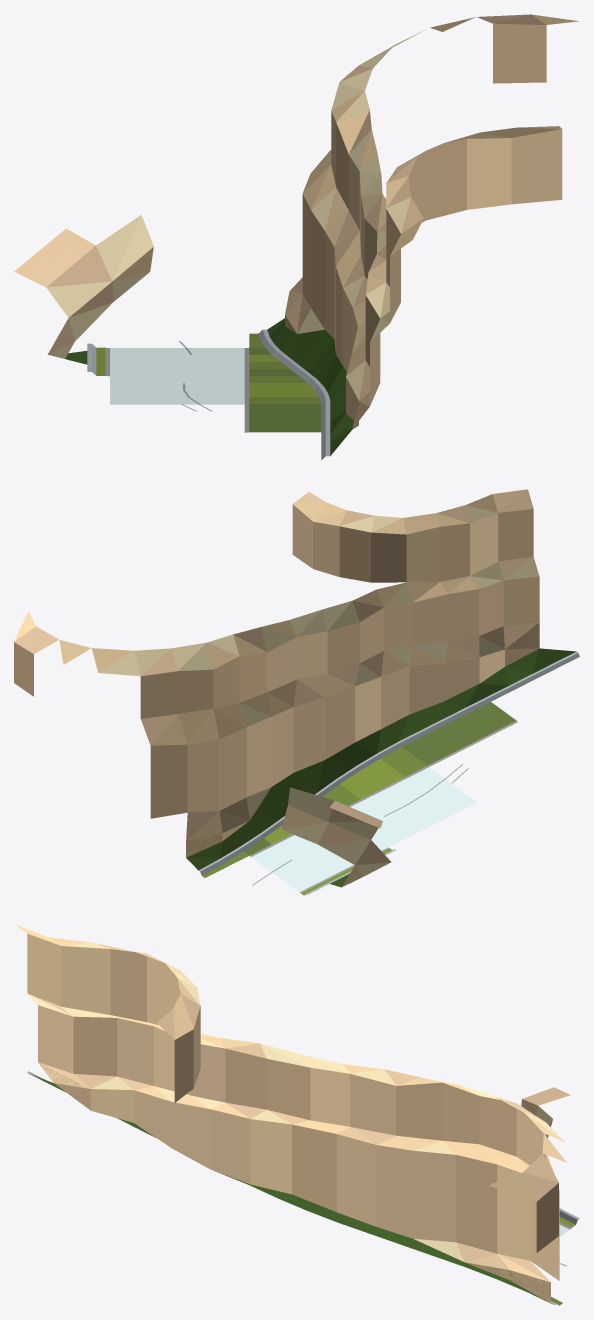
The picture shows the model from 3 angles, top to bottom: view 1: azimuth 30°, elevation 25°; view 2: azimuth 150°, elevation 25°; view 3: azimuth 270°, elevation 25°; orthographic projection. The views are drawn at different scales.
Parts seen in each view (by area): view 1: O20D2B; view 2: O20D2B; view 3: O20D2B.
Boxes of the visible parts, x1,y1,x2,y2 form: O20D2B: [14, 14, 578, 459]; O20D2B: [14, 489, 579, 895]; O20D2B: [14, 924, 579, 1305].
Size of the model in its own units: 141 by 86.9 by 141.
